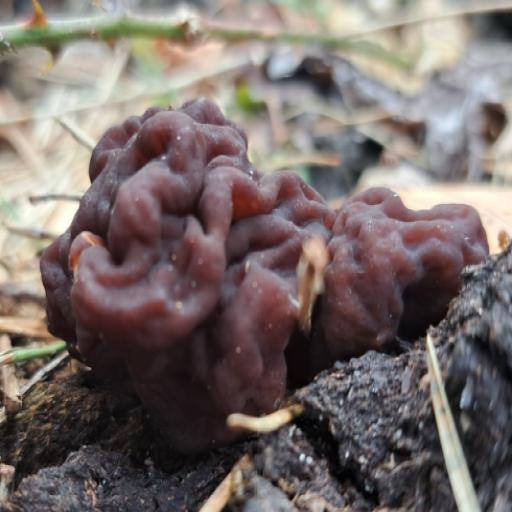False Morel: (0, 73, 497, 512)
